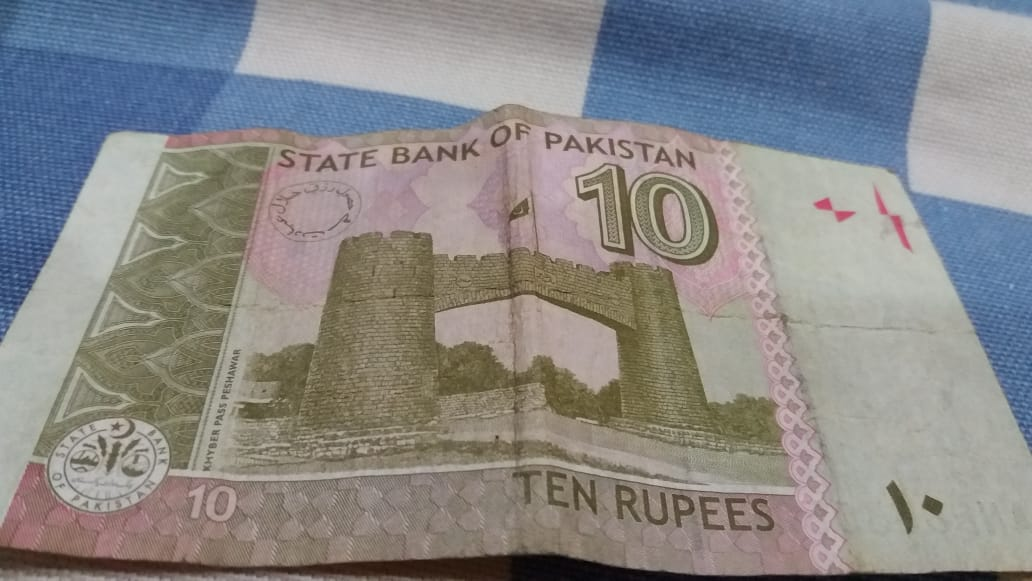10 rupee: (0, 90, 1032, 581)
